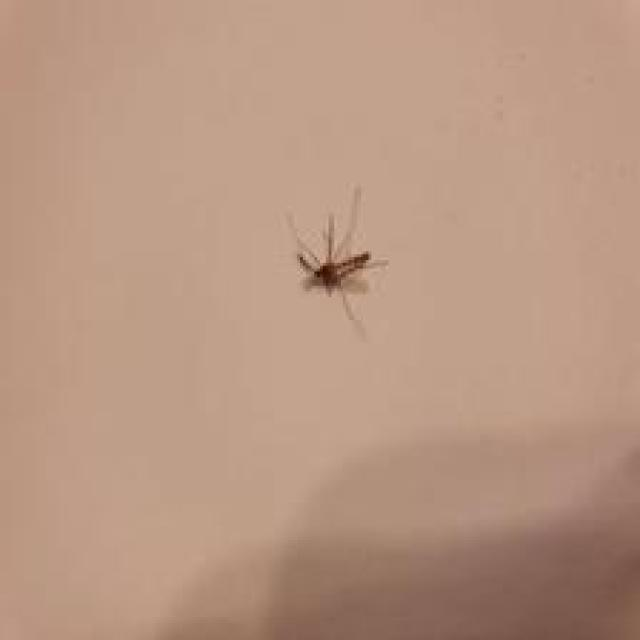Culex: (286, 183, 388, 331)
